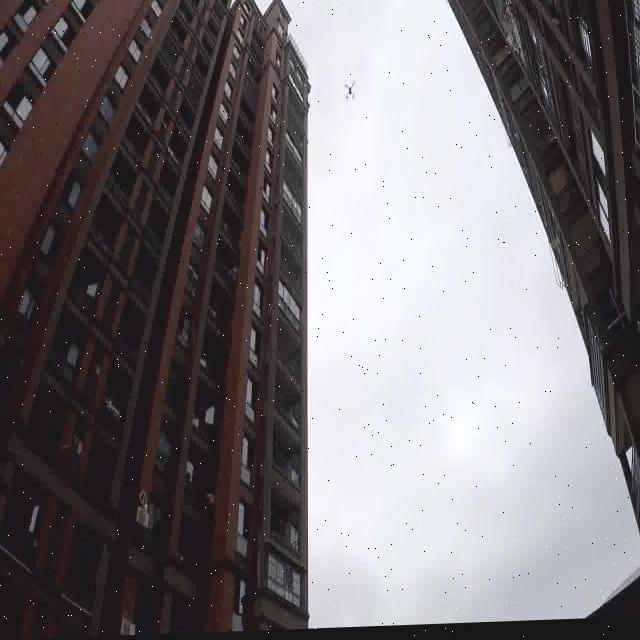drone: (338, 72, 362, 107)
